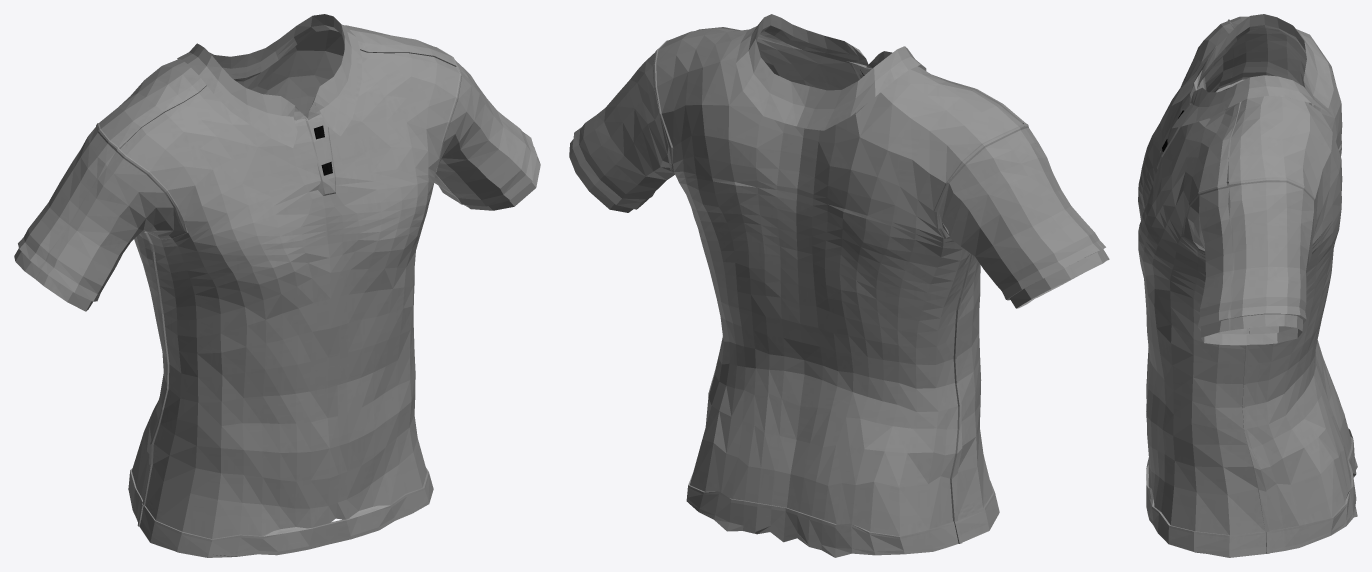
The model's file is mhw_namuhekam_male_polo_shirt.glb.
3 renders of one model, left to right at view 1: azimuth 30°, elevation 25°; view 2: azimuth 150°, elevation 25°; view 3: azimuth 270°, elevation 25°, orthographic. The views are drawn at different scales.
Visible parts, largest first — view 1: mhw_namuhekam_male_polo_shirt; view 2: mhw_namuhekam_male_polo_shirt; view 3: mhw_namuhekam_male_polo_shirt.
Boxes of the visible parts, <box> form: mhw_namuhekam_male_polo_shirt: <box>14,14,540,557</box>; mhw_namuhekam_male_polo_shirt: <box>569,14,1109,557</box>; mhw_namuhekam_male_polo_shirt: <box>1138,14,1357,557</box>.
Size of the model in its own units: 0.7434 by 0.6522 by 0.2872.
1 material, 1 textured.
